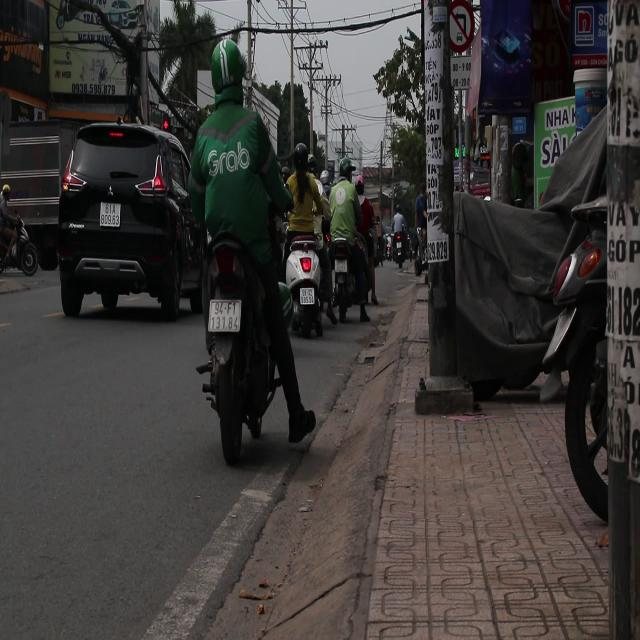car: (57, 122, 205, 322)
motorbike: (188, 211, 306, 468), (321, 214, 371, 327), (284, 232, 332, 340), (0, 188, 39, 275)
